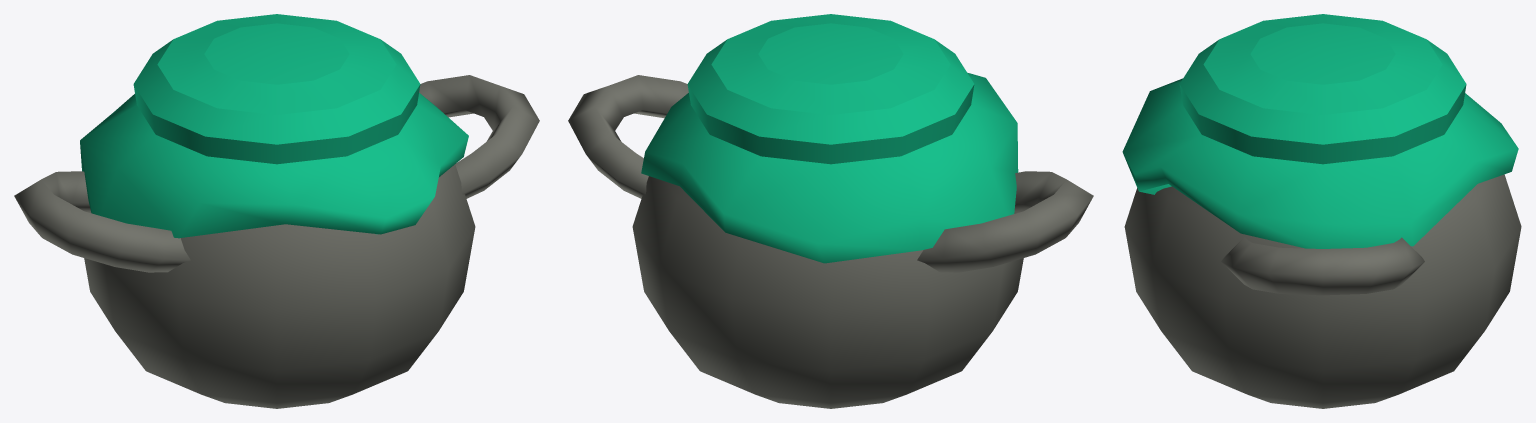
The model's file is Pot_Grey.fbx.
3 views of the same model, side by side, from view 1: azimuth 30°, elevation 25°; view 2: azimuth 150°, elevation 25°; view 3: azimuth 270°, elevation 25° (orthographic).
Parts seen in each view (by area): view 1: Pot_Grey; view 2: Pot_Grey; view 3: Pot_Grey.
Part boxes in pixels (bbox=[...]): Pot_Grey: bbox=[14, 14, 539, 408]; Pot_Grey: bbox=[568, 14, 1093, 408]; Pot_Grey: bbox=[1122, 14, 1521, 408].
Bounding box in the file's own units: 80.93 × 49.5 × 56.57.
